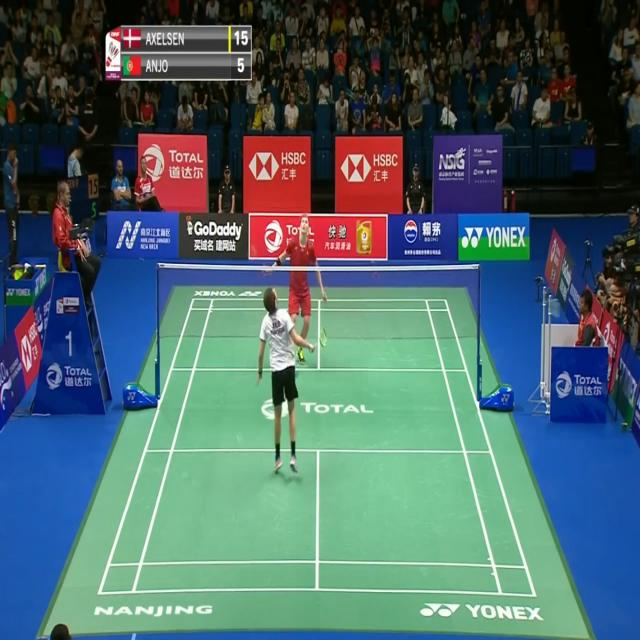Player1: (254, 283, 328, 481)
Player2: (266, 214, 326, 366)
